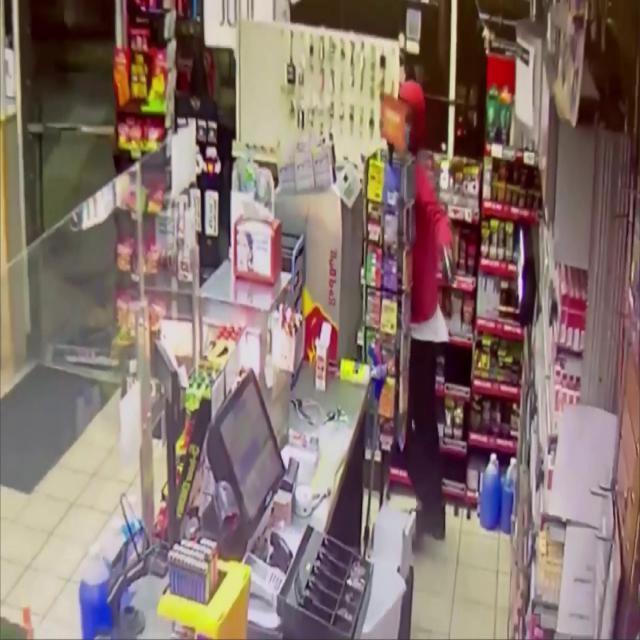weapon: (439, 242, 458, 288)
